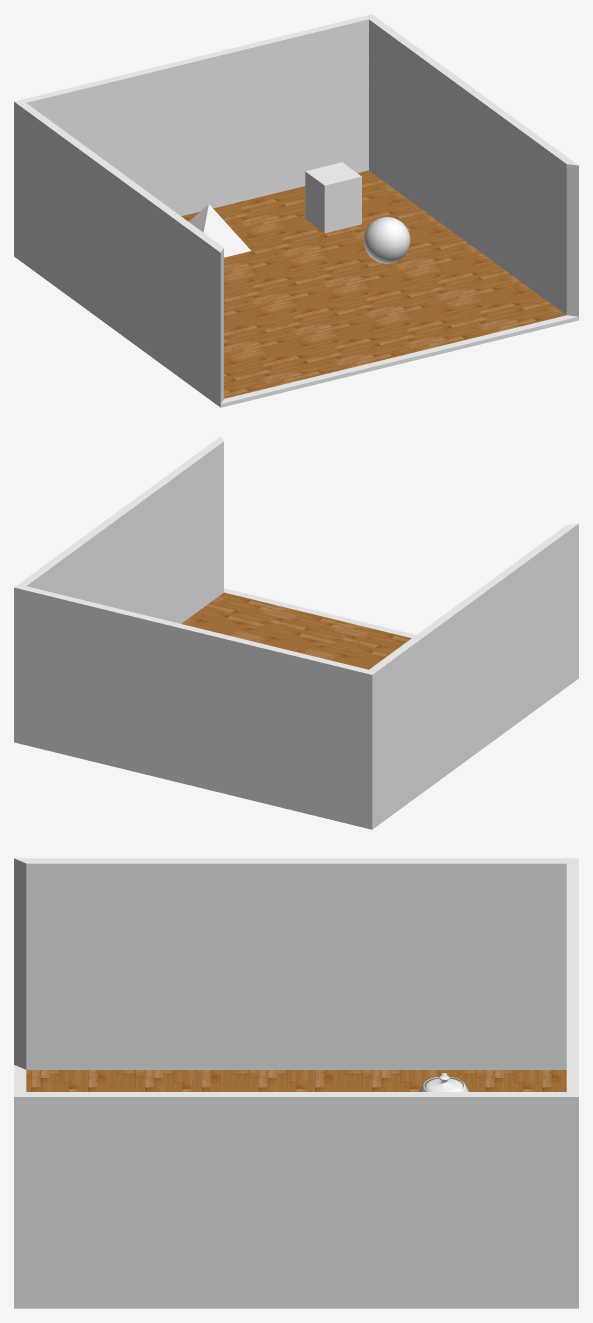
The model's file is shadowRoomTest.fbx.
3 views of the same model, one above another, from view 1: azimuth 30°, elevation 25°; view 2: azimuth 150°, elevation 25°; view 3: azimuth 270°, elevation 25° (orthographic). The views are drawn at different scales.
Visible parts, largest first — view 1: Room, Box002, Sphere001, Pyramid001; view 2: Room; view 3: Room, Teapot001.
Boxes of the visible parts, <box> form: Room: <box>14,14,578,407</box>; Box002: <box>305,162,361,233</box>; Sphere001: <box>363,217,410,263</box>; Pyramid001: <box>189,204,250,257</box>; Room: <box>14,436,578,829</box>; Room: <box>14,858,578,1308</box>; Teapot001: <box>419,1073,468,1091</box>.
Size of the model in its own units: 20 by 20 by 8.26.
Materials: 3 (3 with a texture image).
